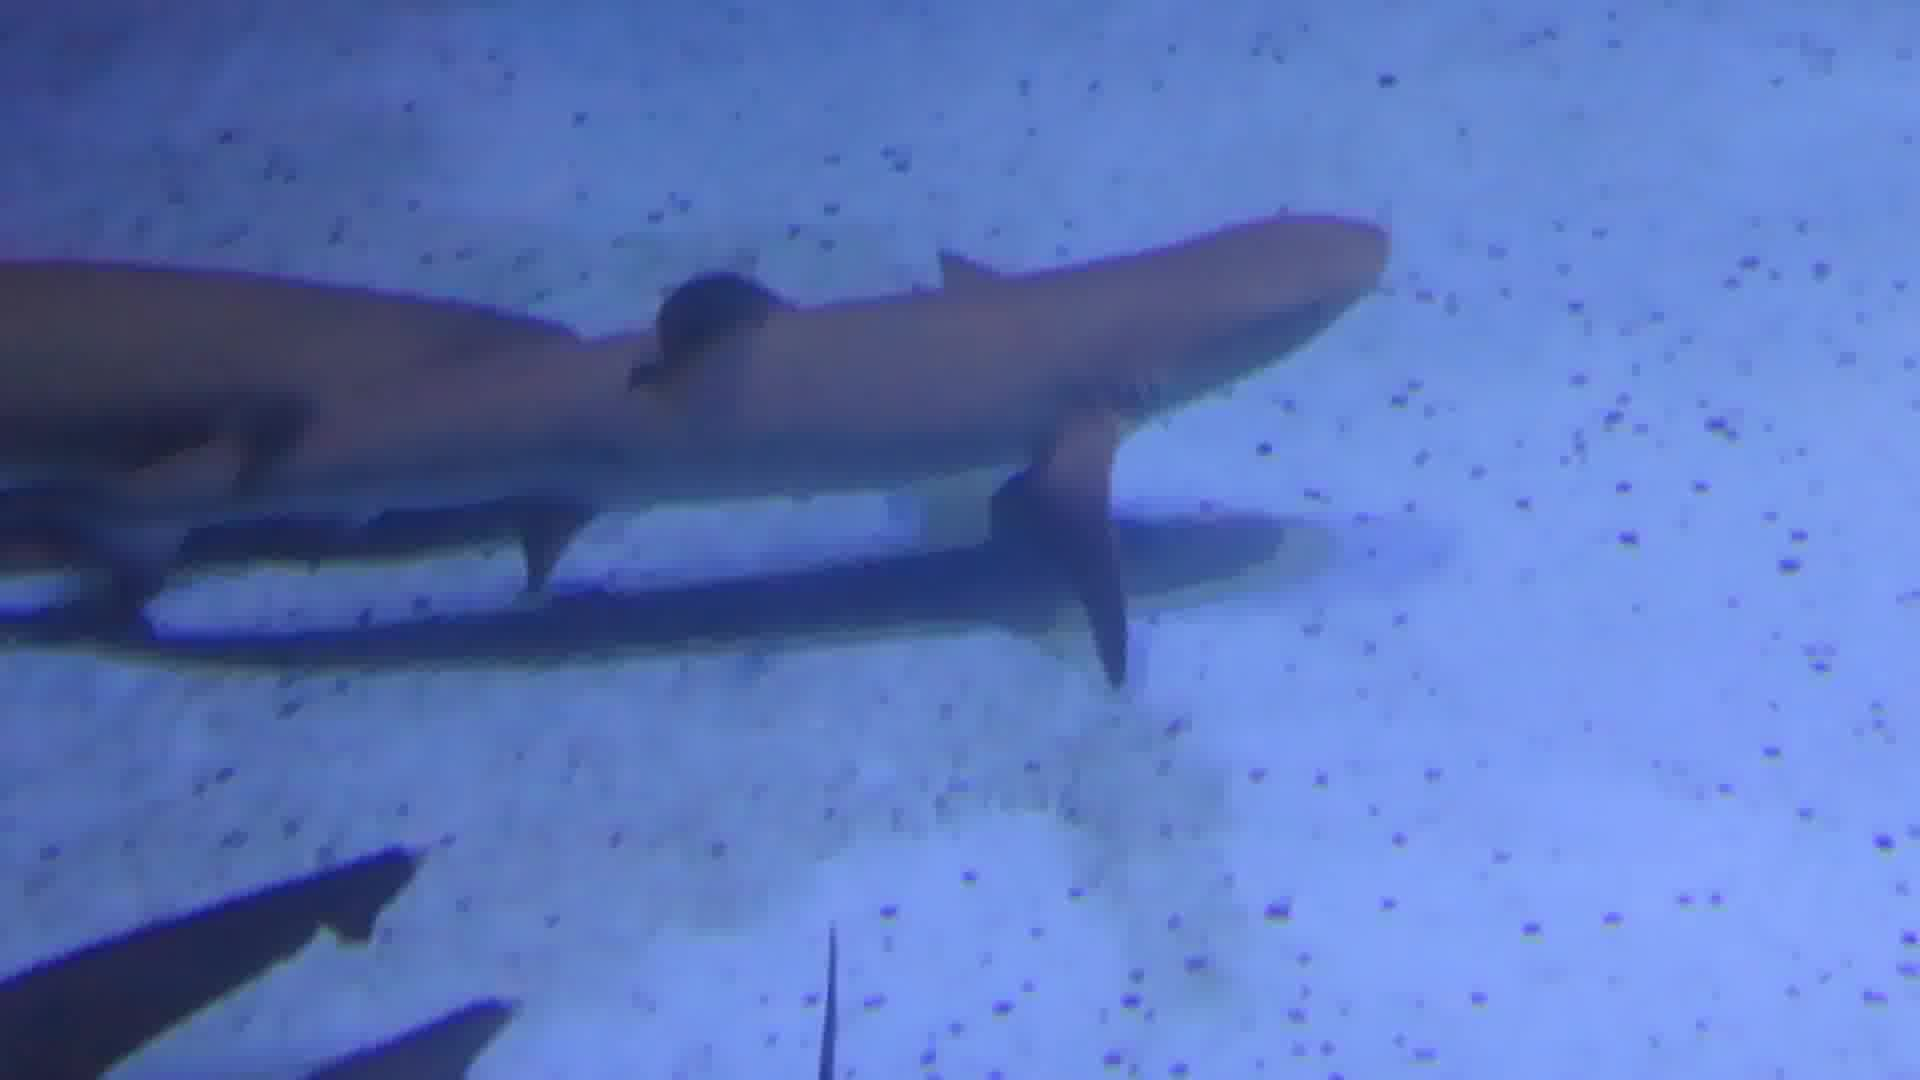Triaenodon obesus: (29, 218, 1404, 571)
